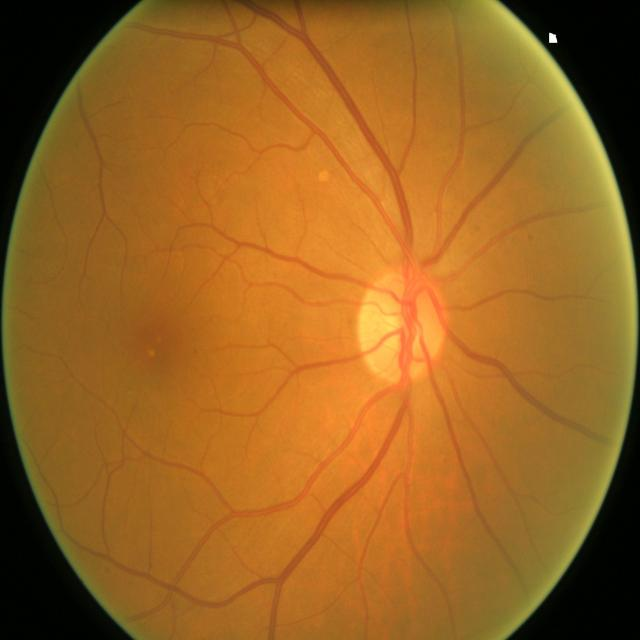OC: (384, 306, 424, 347)
OD: (358, 271, 449, 384)
